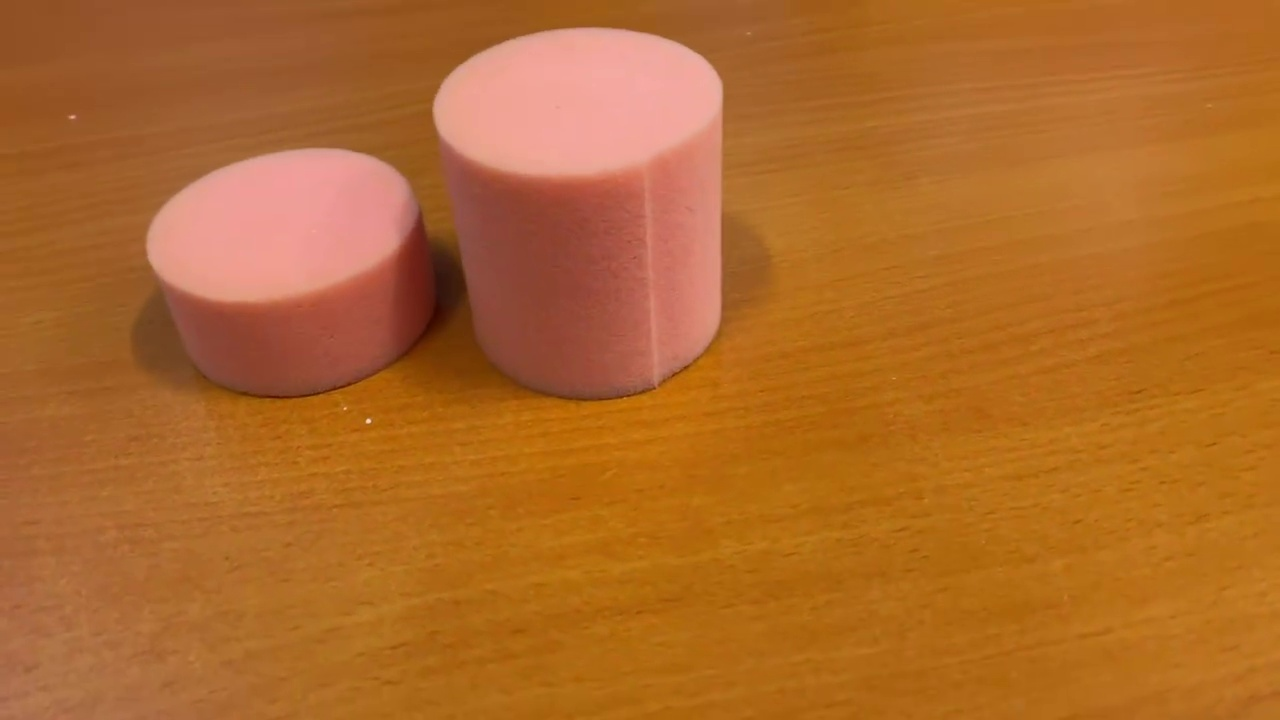Clyinder_short: (140, 140, 440, 400)
Cylinder: (429, 22, 733, 405)
